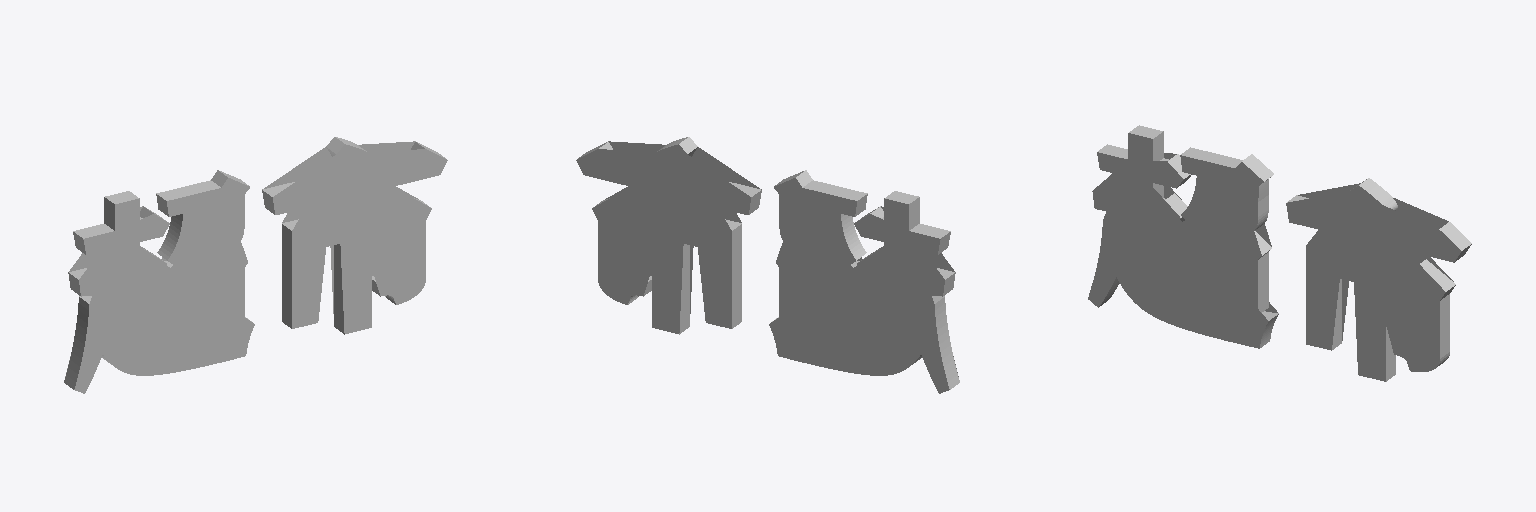
File: word.2.obj
3 renders of one model, left to right at view 1: azimuth 30°, elevation 25°; view 2: azimuth 150°, elevation 25°; view 3: azimuth 330°, elevation 25°, orthographic.
Visible parts, largest first — view 1: Text.005_Text.007; view 2: Text.005_Text.007; view 3: Text.005_Text.007.
Part boxes in pixels (x1,y1,x2,y2): Text.005_Text.007: (64,137,447,393); Text.005_Text.007: (576,137,959,393); Text.005_Text.007: (1088,125,1471,381).
Size of the model in its own units: 1.6 by 0.7756 by 0.0773.